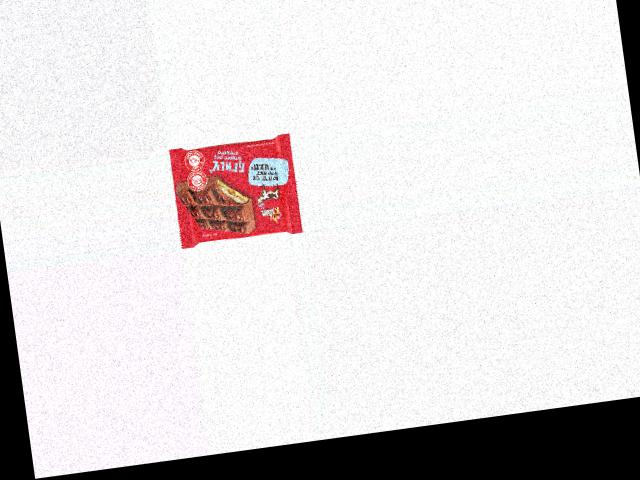chocolate: (170, 132, 298, 247)
